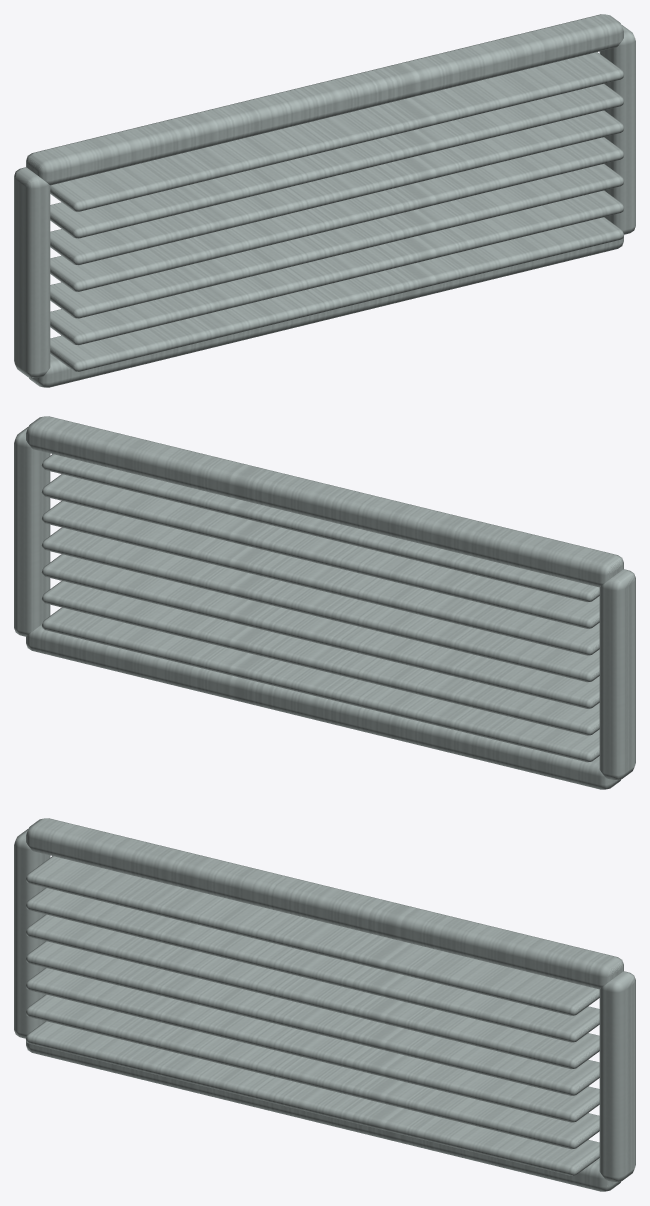
Rendered from detail-vent-1.glb.
3 views of the same model, one above another, from view 1: azimuth 30°, elevation 25°; view 2: azimuth 150°, elevation 25°; view 3: azimuth 330°, elevation 25° (orthographic).
Parts seen in each view (by area): view 1: louvre (×7), frame_rail (×2), frame_side (×2); view 2: louvre (×7), frame_rail (×2), frame_side (×2); view 3: louvre (×7), frame_rail (×2), frame_side (×2).
Part boxes in pixels (bbox=[...]): louvre (×7): bbox=[50, 52, 623, 371]; frame_rail (×2): bbox=[26, 14, 623, 387]; frame_side (×2): bbox=[14, 25, 635, 377]; louvre (×7): bbox=[41, 454, 599, 762]; frame_rail (×2): bbox=[26, 416, 623, 789]; frame_side (×2): bbox=[14, 427, 635, 779]; louvre (×7): bbox=[26, 856, 599, 1175]; frame_rail (×2): bbox=[26, 818, 623, 1191]; frame_side (×2): bbox=[14, 829, 635, 1181].
Bounding box in the file's own units: 0.885 × 0.315 × 0.09.
1 material, 1 textured.
